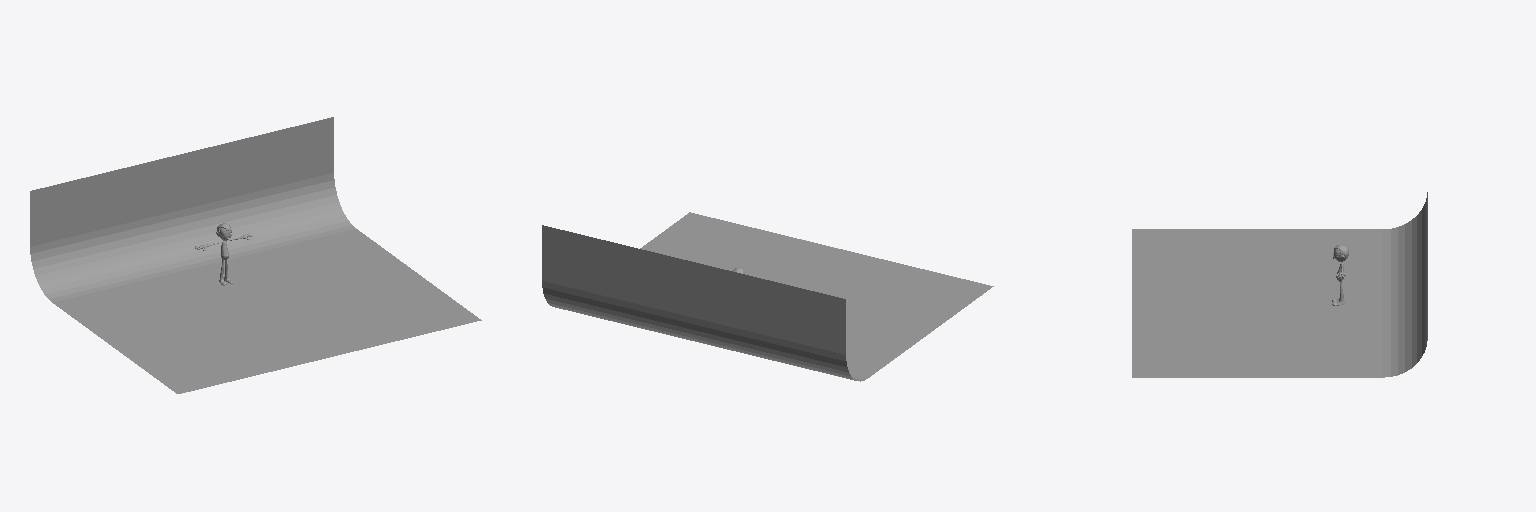
Rendered from Animation_Cartoon_Starter.obj.
3 views of the same model, side by side, from view 1: azimuth 30°, elevation 25°; view 2: azimuth 150°, elevation 25°; view 3: azimuth 270°, elevation 25° (orthographic).
Visible parts, largest first — view 1: Plane, bm_09; view 2: Plane; view 3: Plane.
Part boxes in pixels (x1,y1,x2,y2): Plane: (30,117,481,393); bm_09: (195,223,252,285); Plane: (542,212,993,381); Plane: (1132,192,1427,377).
Bounding box in the file's own units: 8.29 × 2.5 × 6.98.